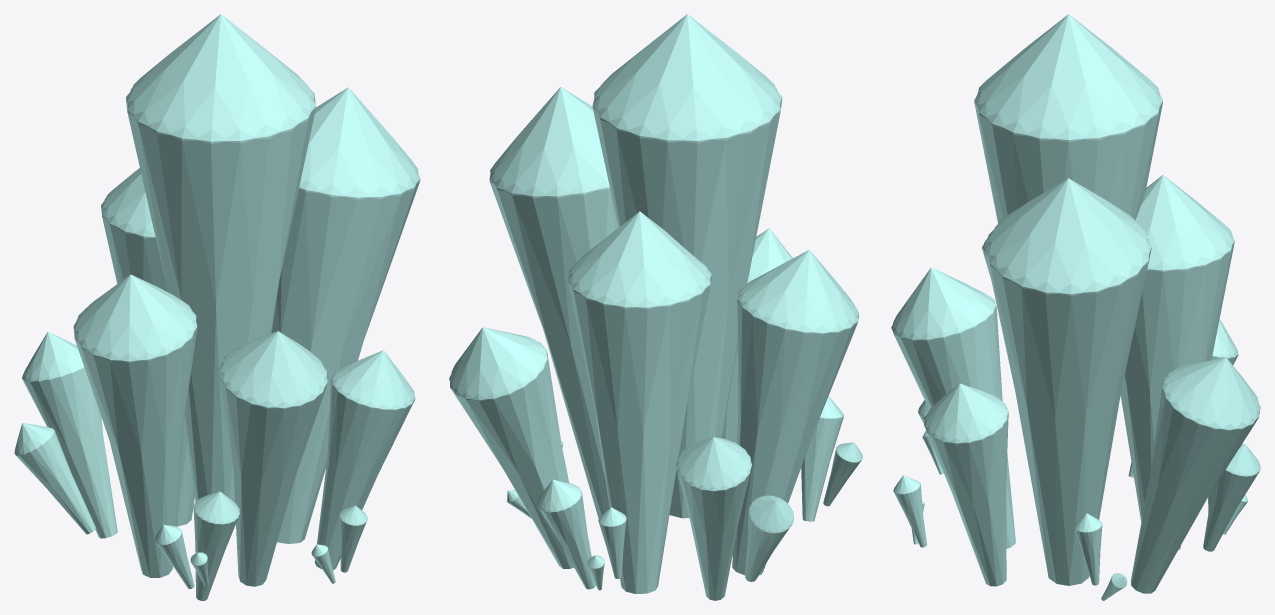
The model's file is crystal-utan-botten.fbx.
The picture shows the model from 3 angles, left to right: view 1: azimuth 30°, elevation 25°; view 2: azimuth 150°, elevation 25°; view 3: azimuth 270°, elevation 25°; orthographic projection.
Visible parts, largest first — view 1: pasted__pPlane7.001; view 2: pasted__pPlane7.001; view 3: pasted__pPlane7.001.
Boxes of the visible parts, <box> form: pasted__pPlane7.001: <box>14,14,420,600</box>; pasted__pPlane7.001: <box>449,14,862,600</box>; pasted__pPlane7.001: <box>891,14,1260,600</box>.
Size of the model in its own units: 3889 by 5925 by 3691.
